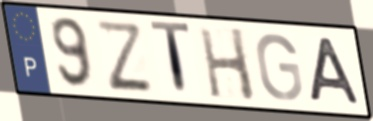9: (49, 15, 96, 91)
A: (307, 35, 364, 108)
G: (253, 31, 305, 104)
H: (196, 26, 259, 104)
T: (147, 18, 193, 101)
Z: (92, 17, 156, 93)
